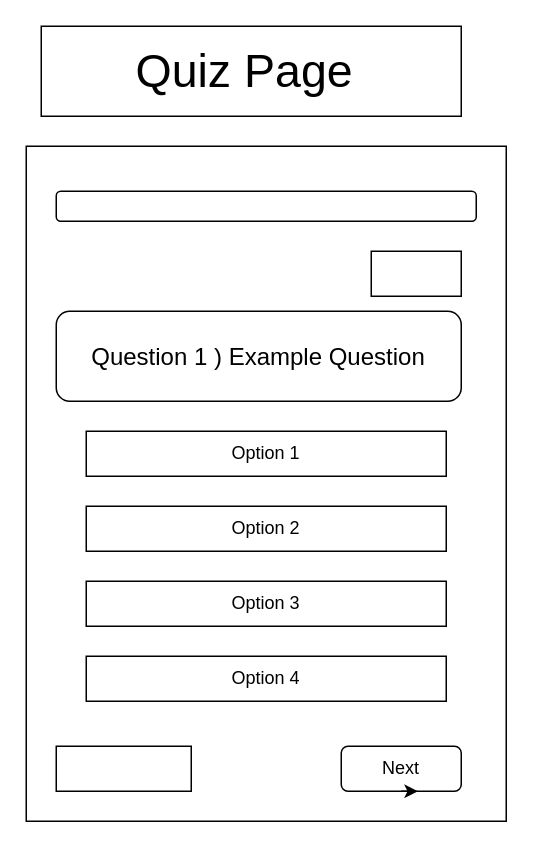
The diagram is 533 pixels wide and 848 high, and some of its shapes have lost their labels. Each missing label, with the centre of its shape:
1 of 5 Questions: the point at 123,768
score 1/5: the point at 415,273
Timer: the point at 265,205
